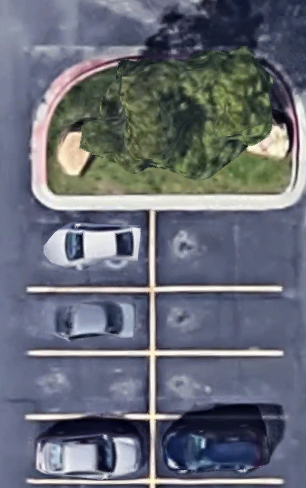Occupied: (27, 205, 153, 289), (152, 418, 284, 482), (27, 289, 152, 353), (26, 417, 152, 480)
Vacant: (153, 205, 283, 288), (152, 353, 284, 417), (154, 289, 284, 353), (27, 353, 152, 416)
